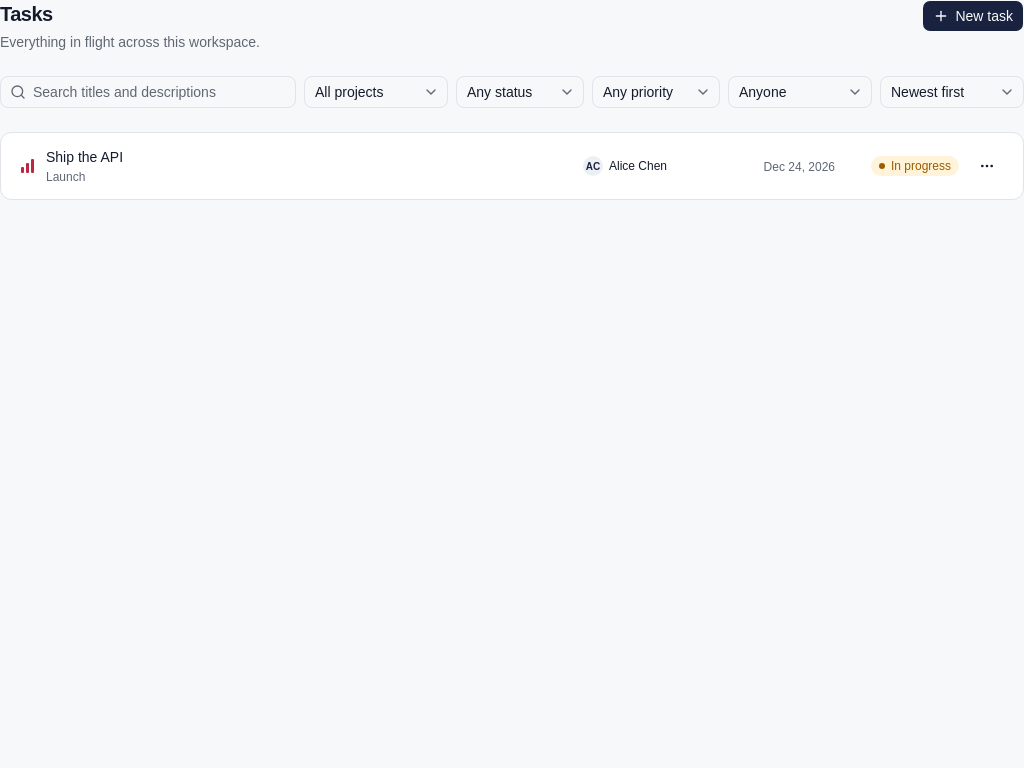
TasksPage › surfaces the API's archived-project rule on the project field
Click the button "New task": x=973, y=16 x1=922 y1=0 x2=1023 y2=32
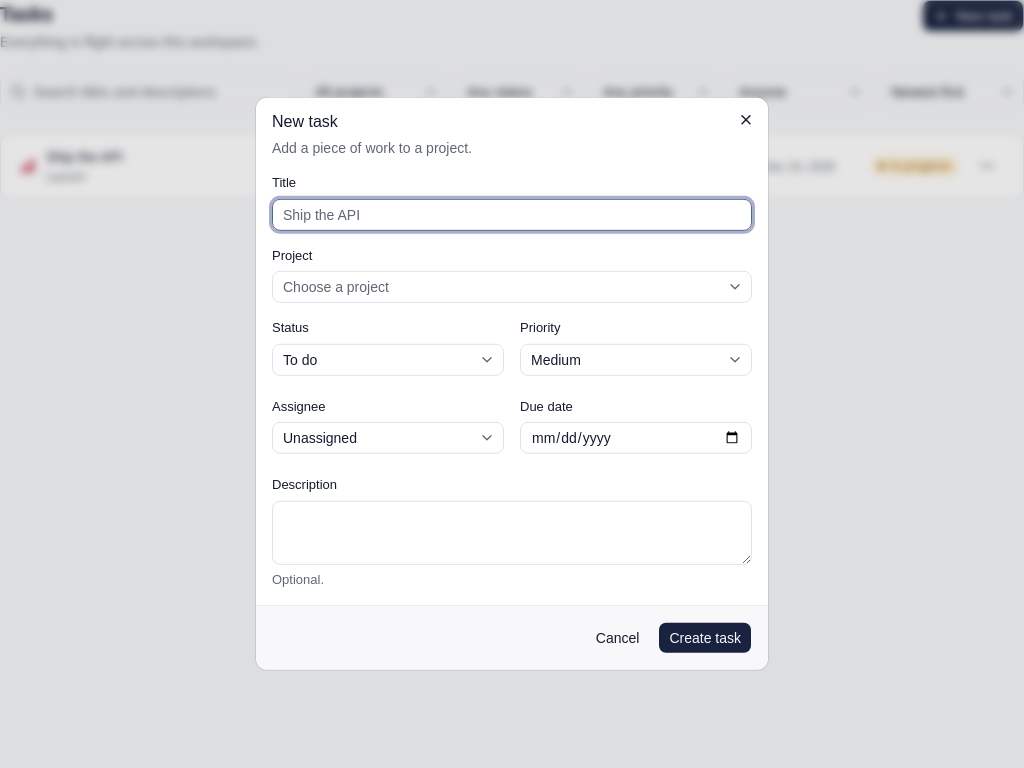
In the field labelled "Title": x=512, y=214 x1=272 y1=198 x2=752 y2=230, type "Late work"
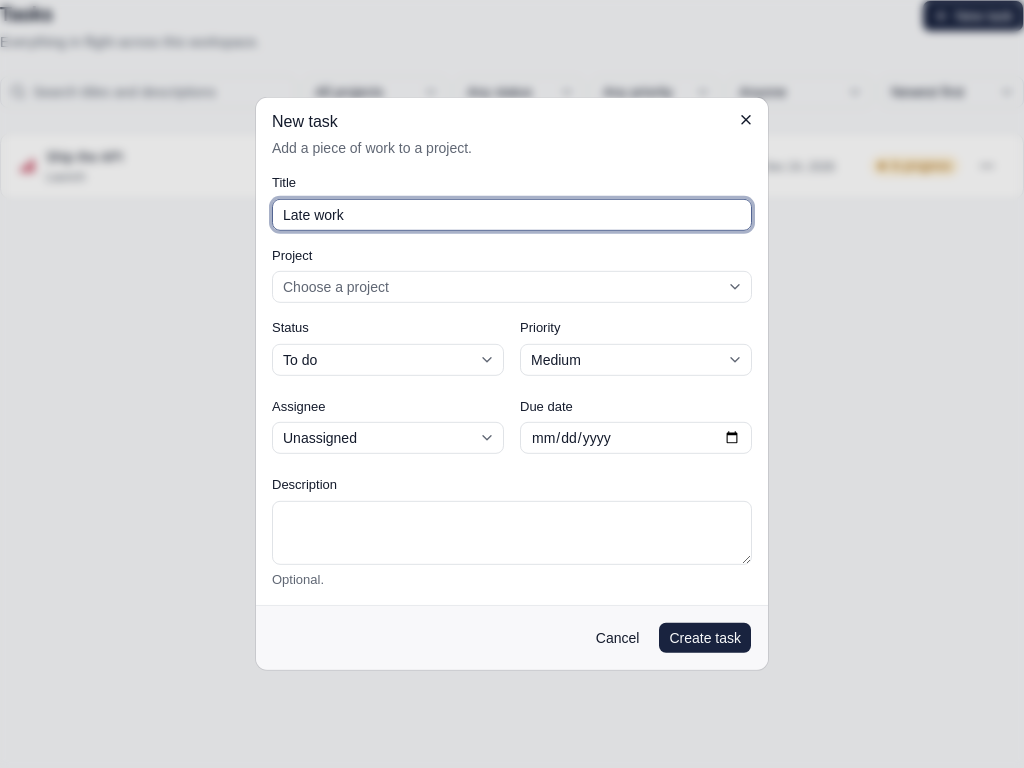
Click the dropdown labelled "project": x=336, y=287 x1=272 y1=271 x2=752 y2=303
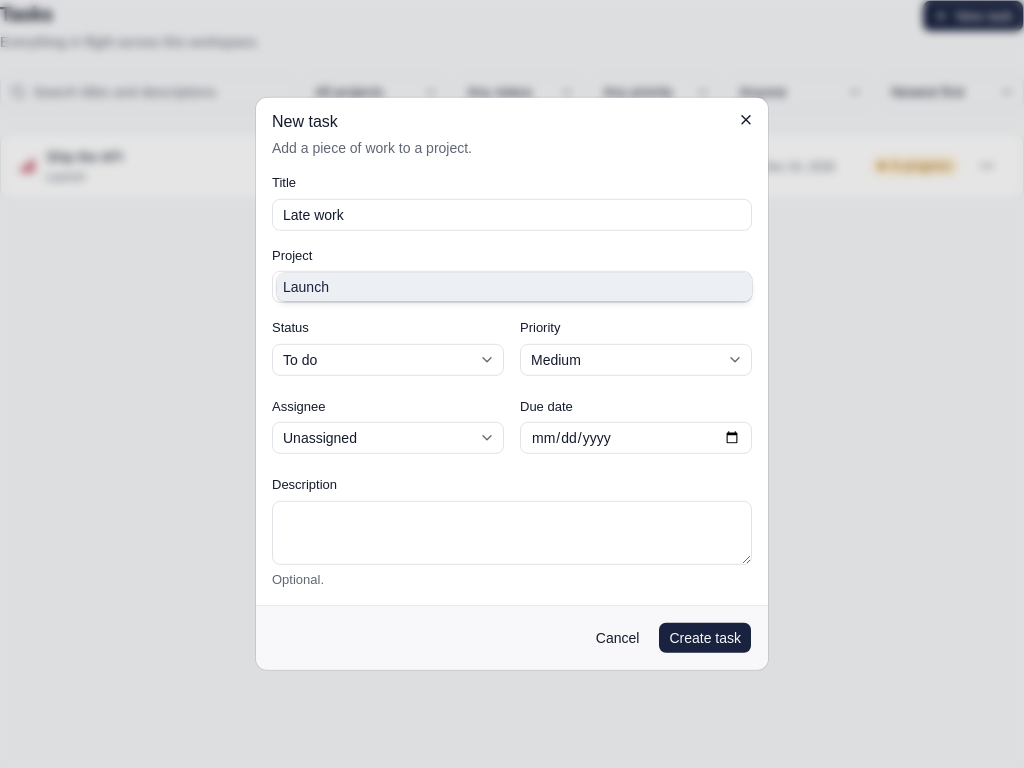
Click the option "Launch": x=306, y=287 x1=277 y1=273 x2=752 y2=301
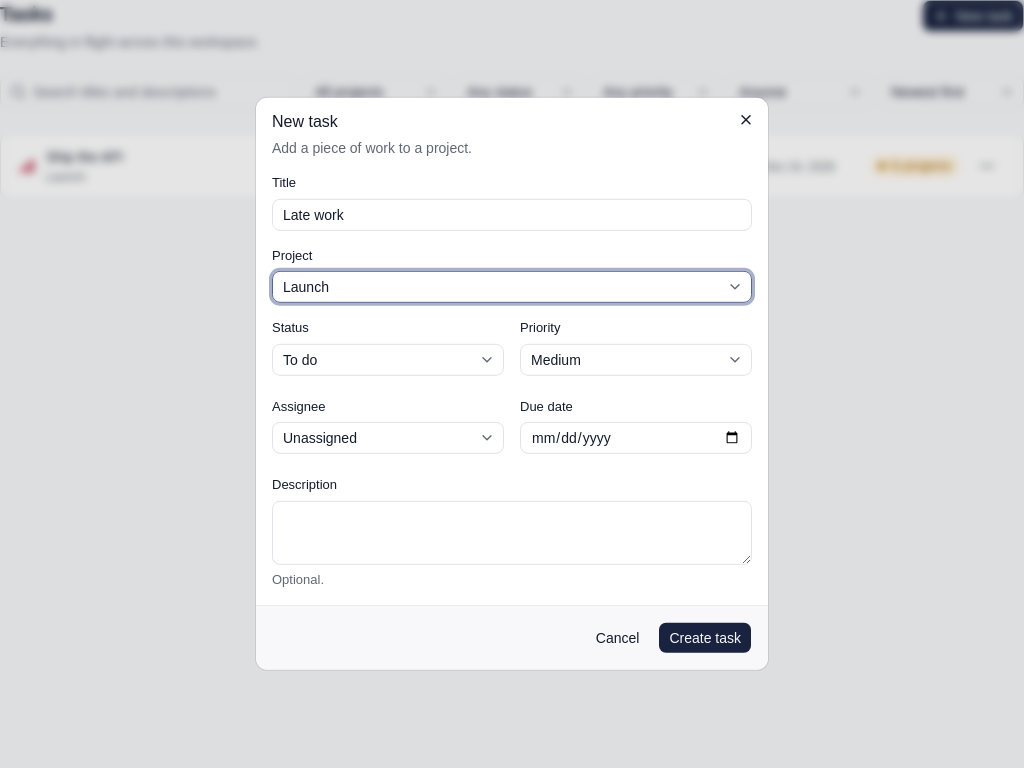
Click the button "Create task": x=705, y=638 x1=658 y1=622 x2=752 y2=654
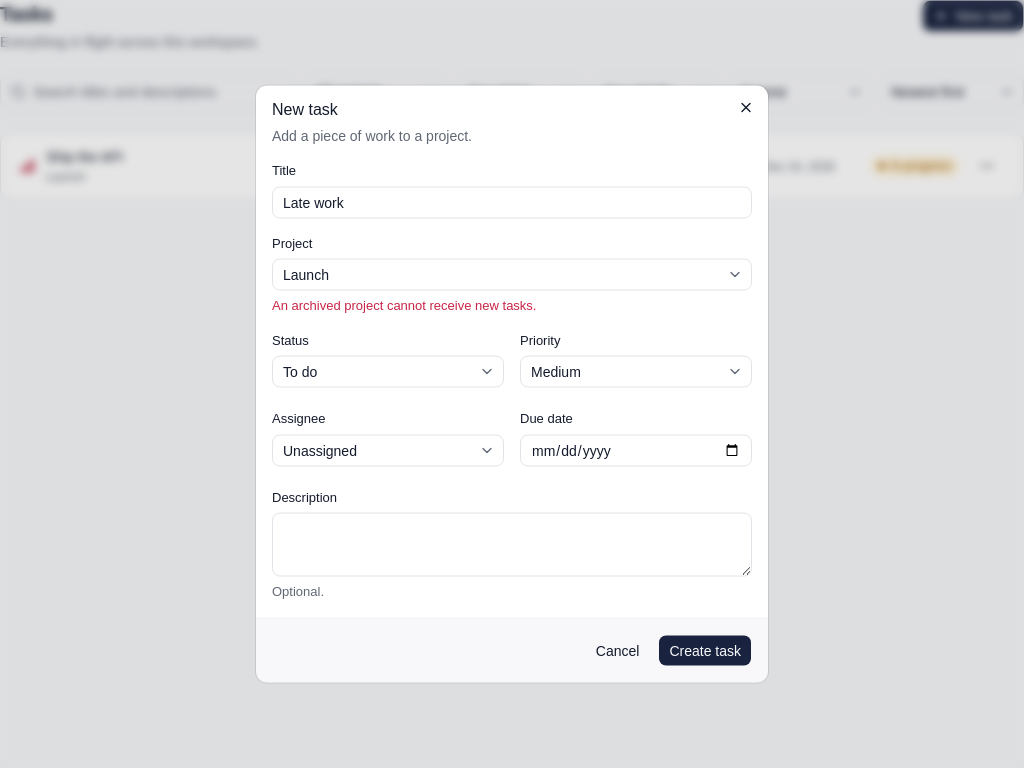
Now the text "An archived project cannot receive new tasks." is shown, box x1=272 y1=298 x2=536 y2=313
